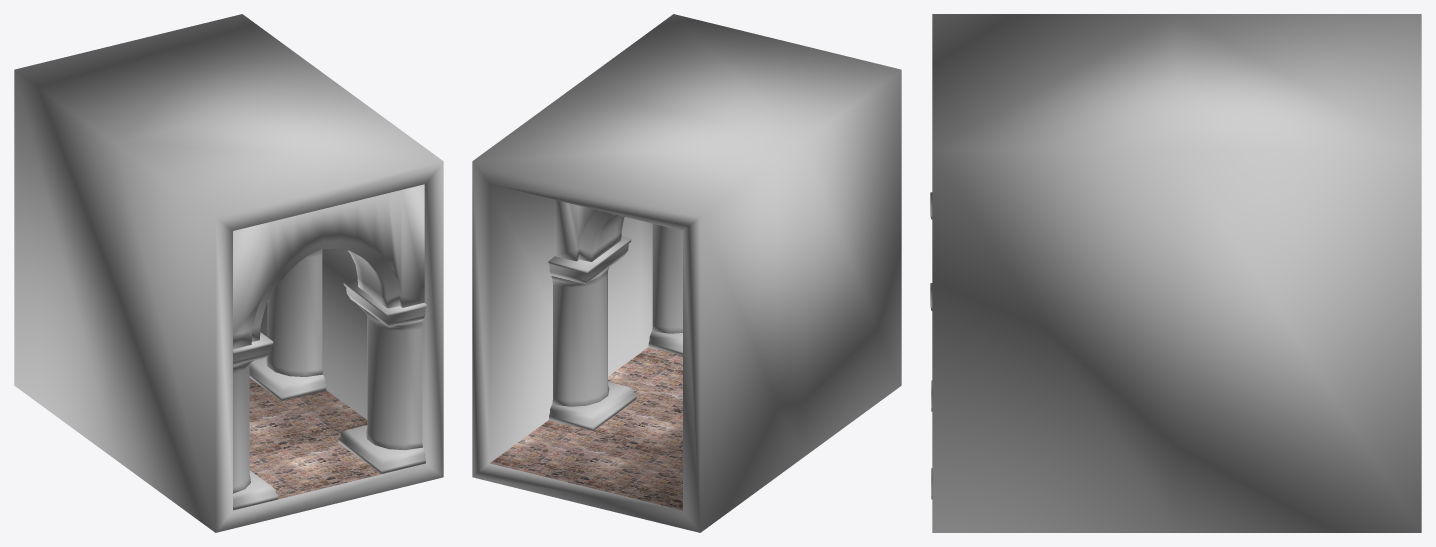
The model's file is templepieceC.dae.
3 renders of one model, left to right at view 1: azimuth 30°, elevation 25°; view 2: azimuth 150°, elevation 25°; view 3: azimuth 270°, elevation 25°, orthographic. The views are drawn at different scales.
Visible parts, largest first — view 1: meshU3D; view 2: meshU3D; view 3: meshU3D.
Boxes of the visible parts, left/top/right/bottom form: meshU3D: left=14, top=14, right=443, bottom=532; meshU3D: left=472, top=14, right=901, bottom=532; meshU3D: left=930, top=14, right=1421, bottom=532.
Size of the model in its own units: 4.66 by 6.16 by 7.15.
